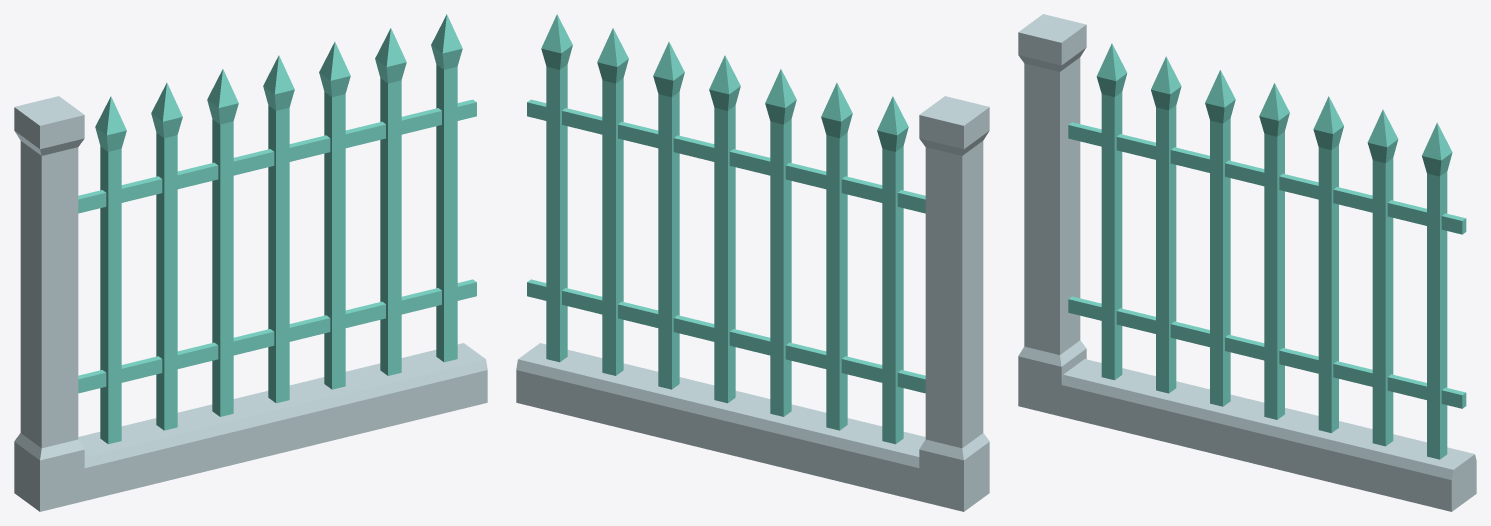
File: ironFenceBorderColumn.glb
3 views of the same model, side by side, from view 1: azimuth 30°, elevation 25°; view 2: azimuth 150°, elevation 25°; view 3: azimuth 330°, elevation 25° (orthographic). The views are drawn at different scales.
Parts seen in each view (by area): view 1: ironFenceBorderColumn; view 2: ironFenceBorderColumn; view 3: ironFenceBorderColumn.
Part boxes in pixels (left/top/right/bottom): ironFenceBorderColumn: left=14, top=14, right=487, bottom=511; ironFenceBorderColumn: left=516, top=14, right=989, bottom=511; ironFenceBorderColumn: left=1018, top=14, right=1476, bottom=511.
Bounding box in the file's own units: 1 × 0.8239 × 0.1.
